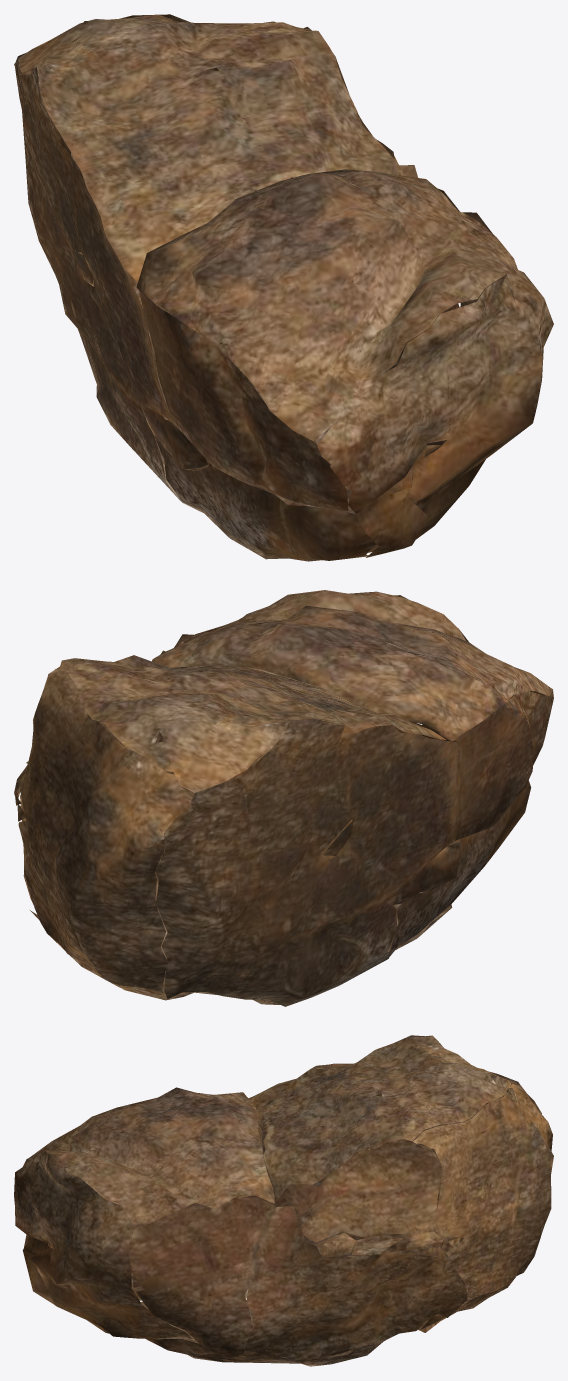
File: namaqualand_boulder_06_lod1.glb
3 views of the same model, one above another, from view 1: azimuth 30°, elevation 25°; view 2: azimuth 150°, elevation 25°; view 3: azimuth 270°, elevation 25° (orthographic). The views are drawn at different scales.
Visible parts, largest first — view 1: namaqualand_boulder_06; view 2: namaqualand_boulder_06; view 3: namaqualand_boulder_06.
Part boxes in pixels (x1,y1,x2,y2): namaqualand_boulder_06: [14, 14, 553, 561]; namaqualand_boulder_06: [14, 590, 553, 1006]; namaqualand_boulder_06: [14, 1035, 553, 1366].
Size of the model in its own units: 0.6703 by 0.6467 by 1.2.
Materials: 1 (1 with a texture image).
